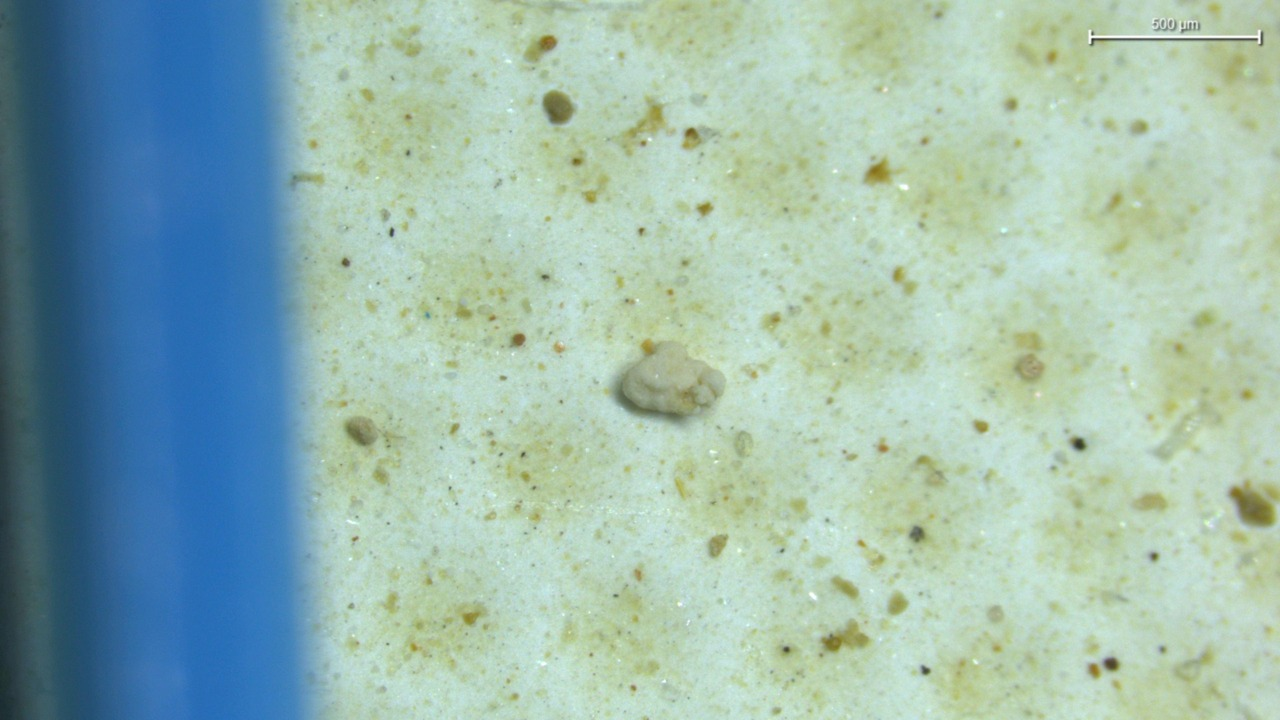microplastic_fragment: (622, 341, 725, 415)
